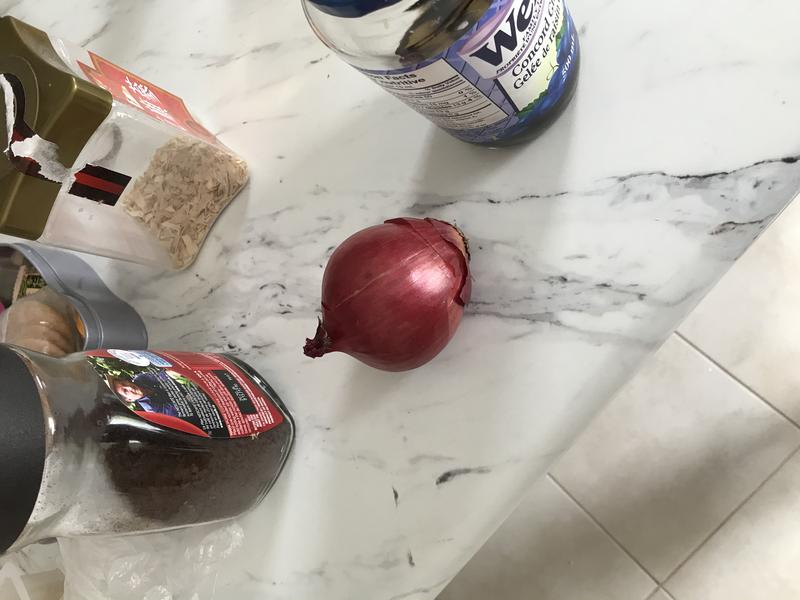purple_onion: (296, 210, 475, 378)
